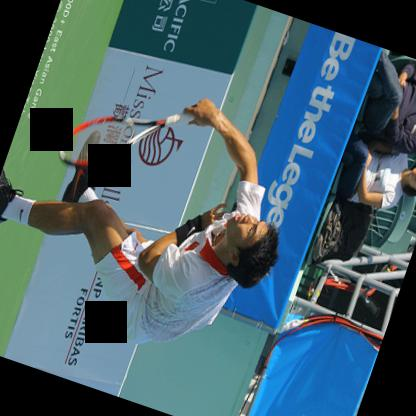handbag: (309, 203, 347, 268)
